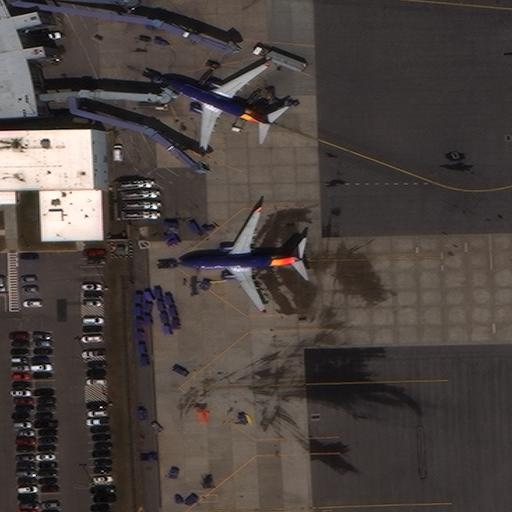Medium Civil Transport: (181, 207, 304, 312), (163, 62, 274, 151)
